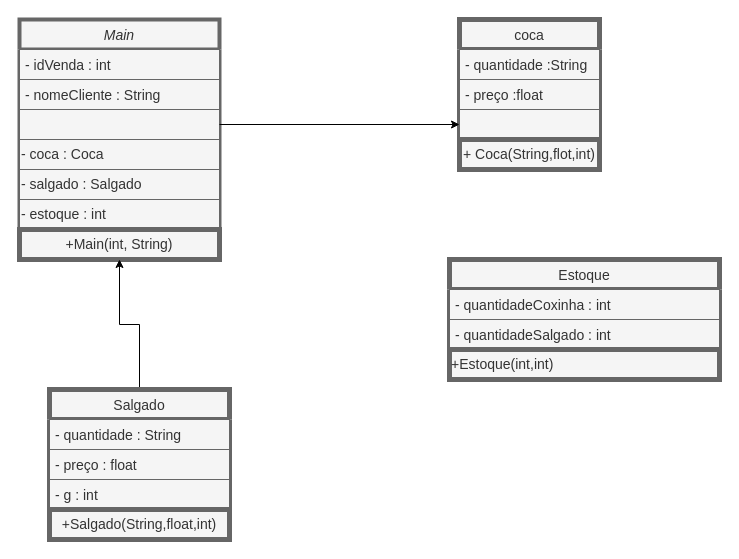
Some shapes in this 739 by 559 pixel diagram are drawn without their labels. Each missing label, with the centre of its shape:
"- ml : int" belongs at (529,124).
"- valorCompra : float" belongs at (119,124).
